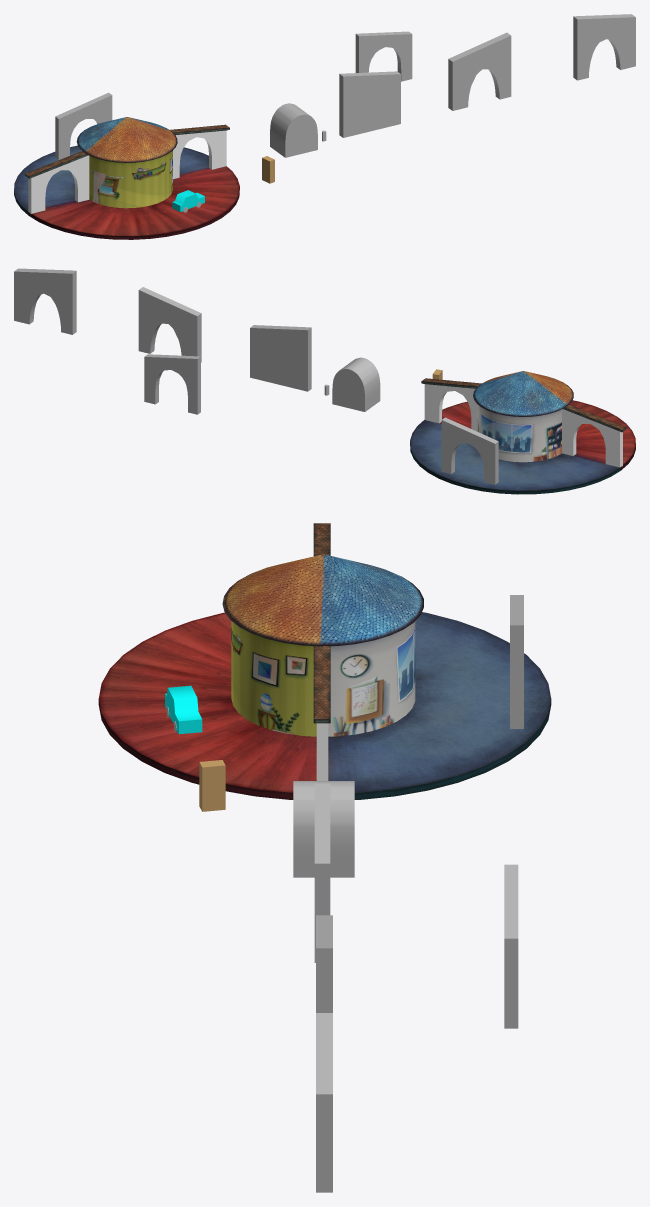
File: set_anim.gltf
3 renders of one model, top to bottom at view 1: azimuth 30°, elevation 25°; view 2: azimuth 150°, elevation 25°; view 3: azimuth 270°, elevation 25°, orthographic. The views are drawn at different scales.
Parts seen in each view (by area): view 1: |polySurface31_4, |polySurface31_3, pCube5, polySurface7, polySurface6, |polySurface31_1, pCube14, polySurface17, polySurface18, |polySurface31_2, polySurface22_2, pCube3; view 2: |polySurface31_4, |polySurface31_3, pCube5, polySurface6, polySurface7, pCube14, polySurface17, polySurface18, |polySurface31_1, polySurface28, |polySurface31_2; view 3: |polySurface31_4, |polySurface31_3, pCube14, polySurface6, polySurface17, pCube5, |polySurface31_2, polySurface18, polySurface7, polySurface22_2, pCube3.
Boxes of the visible parts, x1,y1,x2,y2 form: |polySurface31_4: [14, 145, 239, 239]; |polySurface31_3: [76, 117, 177, 208]; pCube5: [339, 71, 400, 137]; polySurface7: [448, 32, 511, 110]; polySurface6: [573, 14, 635, 80]; |polySurface31_1: [28, 130, 226, 213]; pCube14: [270, 103, 317, 157]; polySurface17: [355, 31, 412, 81]; polySurface18: [55, 92, 112, 159]; |polySurface31_2: [24, 124, 229, 178]; polySurface22_2: [172, 190, 204, 211]; pCube3: [262, 156, 274, 183]; |polySurface31_4: [410, 400, 635, 494]; |polySurface31_3: [473, 371, 573, 462]; pCube5: [250, 325, 311, 391]; polySurface6: [14, 268, 76, 334]; polySurface7: [138, 287, 201, 362]; pCube14: [332, 357, 380, 411]; polySurface17: [144, 354, 200, 414]; polySurface18: [441, 417, 498, 484]; |polySurface31_1: [424, 384, 622, 467]; polySurface28: [425, 384, 477, 431]; |polySurface31_2: [421, 378, 626, 432]; |polySurface31_4: [98, 612, 551, 799]; |polySurface31_3: [222, 554, 423, 736]; pCube14: [293, 781, 354, 877]; polySurface6: [316, 1013, 332, 1192]; polySurface17: [504, 864, 518, 1028]; pCube5: [314, 783, 330, 962]; |polySurface31_2: [313, 523, 330, 723]; polySurface18: [510, 595, 523, 728]; polySurface7: [316, 915, 332, 1012]; polySurface22_2: [165, 685, 202, 734]; pCube3: [199, 760, 225, 811].
Bounding box in the file's own units: 522 × 63.36 × 168.
7 materials, 3 textured.
